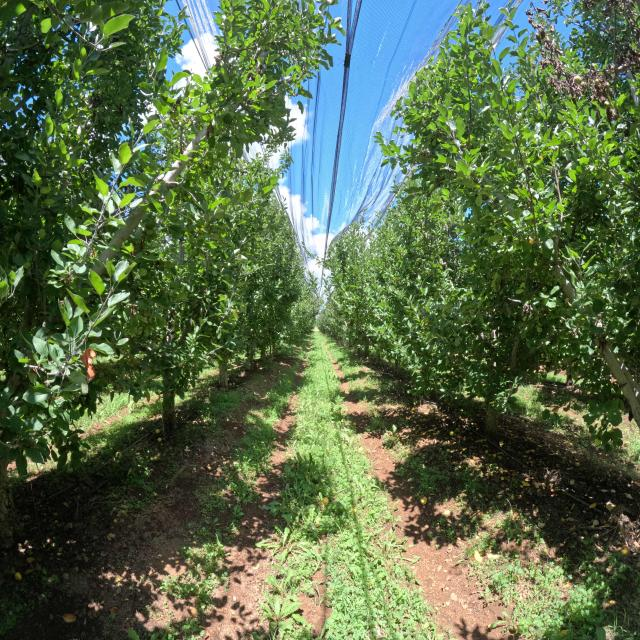-FireBlight-: (524, 0, 638, 122), (603, 0, 640, 53), (81, 347, 98, 381)
